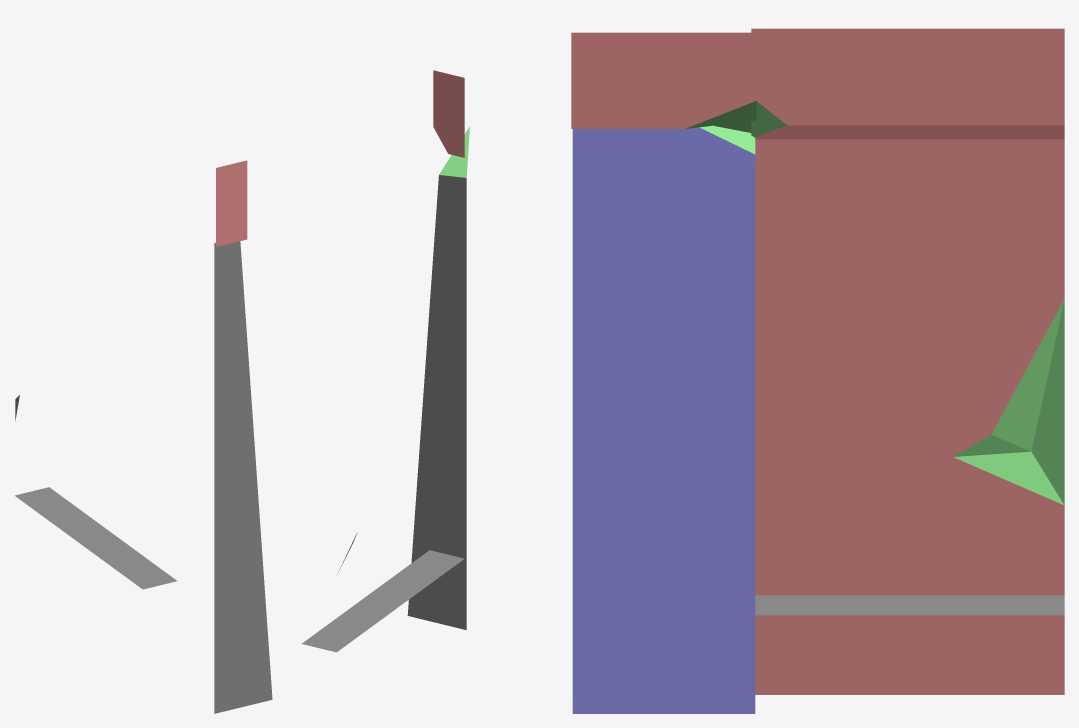
Rendered from SSQ_BRoom01_Wall03.gltf.
3 views of the same model, side by side, from view 1: azimuth 30°, elevation 25°; view 2: azimuth 150°, elevation 25°; view 3: azimuth 270°, elevation 25° (orthographic). The views are drawn at different scales.
Parts seen in each view (by area): view 1: SSQ_BRoom01_Wall03; view 2: SSQ_BRoom01_Wall03; view 3: SSQ_BRoom01_Wall03.
Boxes of the visible parts, left/top/right/bottom form: SSQ_BRoom01_Wall03: left=15, top=160, right=272, bottom=713; SSQ_BRoom01_Wall03: left=302, top=70, right=469, bottom=652; SSQ_BRoom01_Wall03: left=571, top=28, right=1064, bottom=713.
Bounding box in the file's own units: 0.476 × 3.86 × 2.59.
